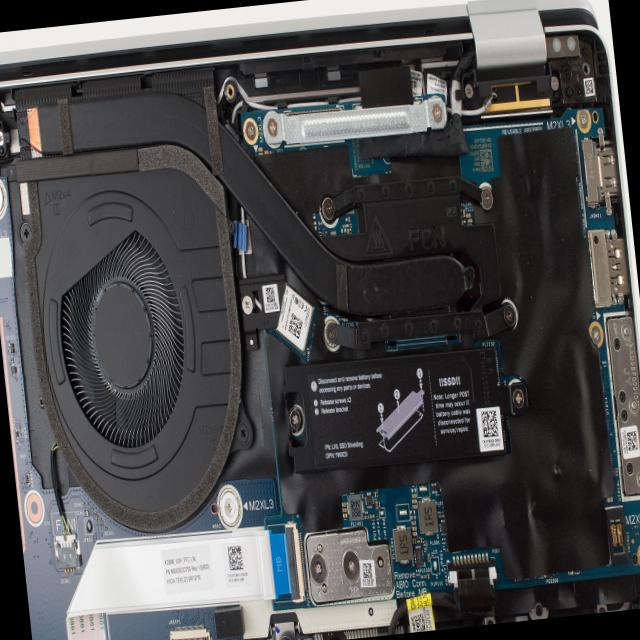ssd: (284, 344, 504, 474)
wifi: (272, 280, 320, 356)
